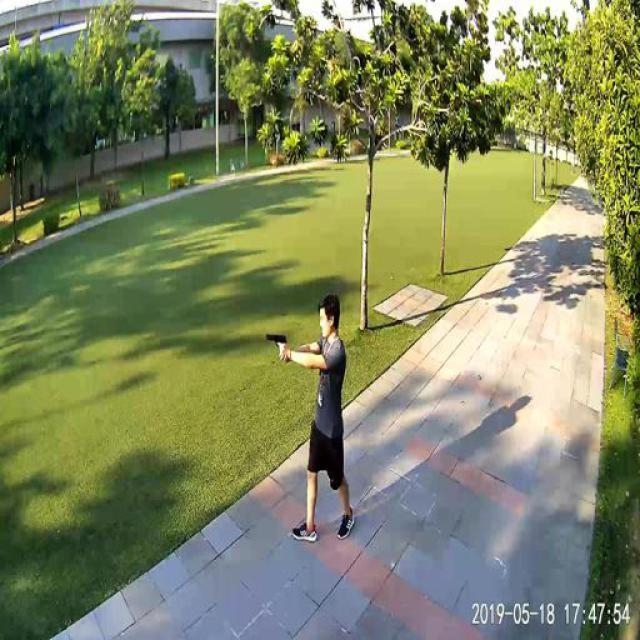weapon: (264, 333, 292, 358)
